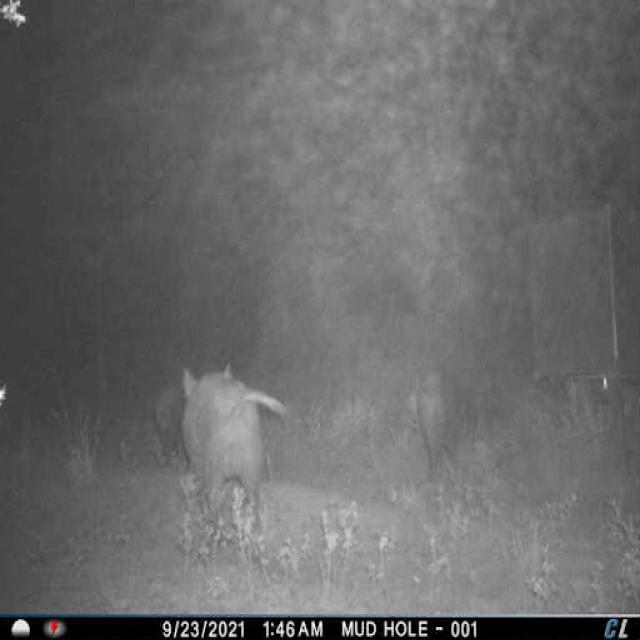wild boar: (174, 356, 290, 528)
